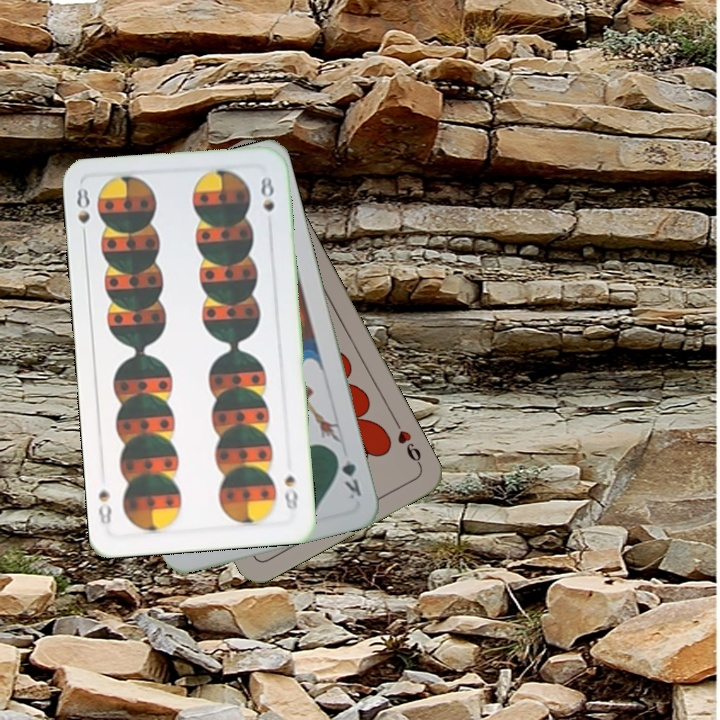GK: (331, 447, 364, 502)
H9: (390, 415, 424, 469)
S8: (72, 183, 92, 243), (280, 471, 301, 512)
